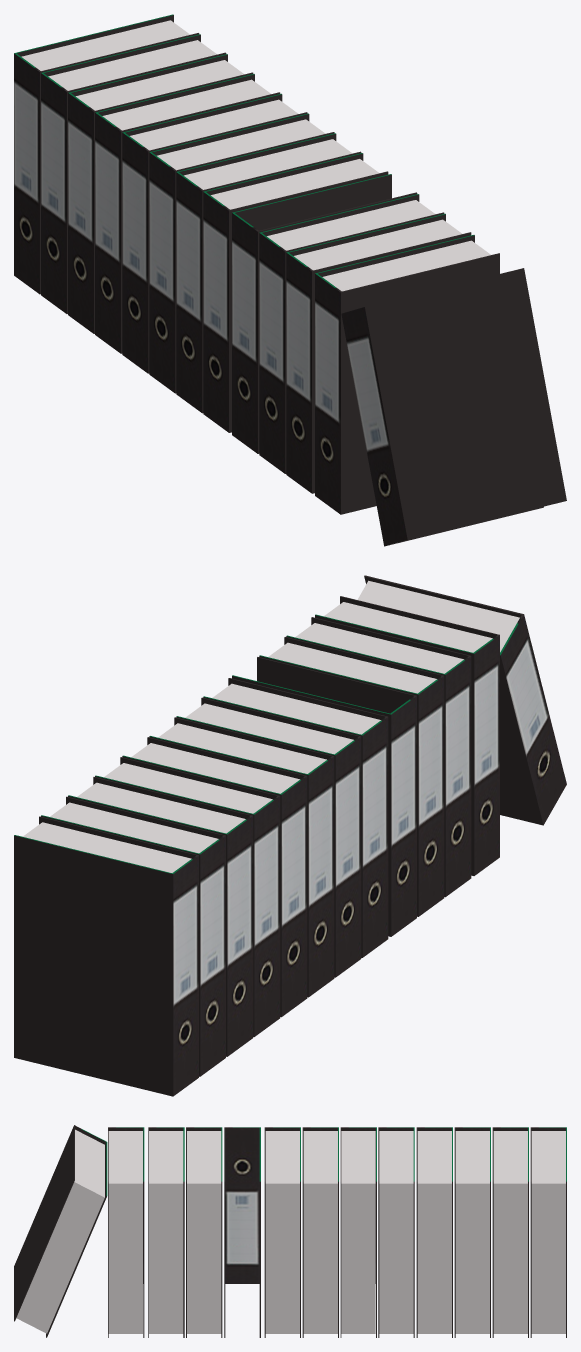
File: Files 2.FBX
3 renders of one model, top to bottom at view 1: azimuth 30°, elevation 25°; view 2: azimuth 150°, elevation 25°; view 3: azimuth 270°, elevation 25°, orthographic. The views are drawn at different scales.
Visible parts, largest first — view 1: Files 2; view 2: Files 2; view 3: Files 2.
Boxes of the visible parts, x1,y1,x2,y2 form: Files 2: (14,14,566,546); Files 2: (14,575,566,1096); Files 2: (14,1125,566,1337).
Bounding box in the file's own units: 181 × 775 × 245.
Materials: 1 (1 with a texture image).
